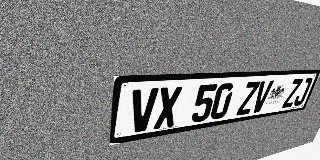0: (209, 83, 235, 120)
5: (191, 84, 218, 123)
J: (292, 78, 313, 106)
V: (128, 88, 159, 134), (250, 80, 274, 113)
X: (153, 86, 183, 129)
Z: (236, 81, 261, 116), (282, 78, 304, 108)
